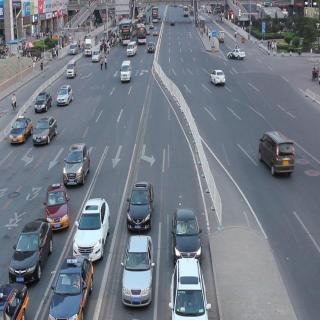BigCar: (120, 23, 134, 46), (136, 22, 148, 45)
Car: (9, 214, 53, 284), (48, 256, 93, 320), (72, 192, 110, 263), (169, 256, 211, 320), (120, 234, 155, 309), (258, 125, 296, 180), (170, 206, 204, 266), (125, 177, 156, 234), (61, 138, 91, 190), (42, 183, 71, 231), (0, 280, 30, 320), (32, 115, 56, 146), (10, 116, 31, 144), (118, 58, 134, 86), (210, 66, 227, 92), (225, 42, 247, 62), (34, 90, 52, 113), (56, 83, 72, 108), (83, 34, 95, 57), (65, 60, 78, 78), (126, 40, 139, 57), (91, 49, 101, 62), (147, 40, 156, 54), (217, 30, 227, 42), (151, 26, 159, 38)
